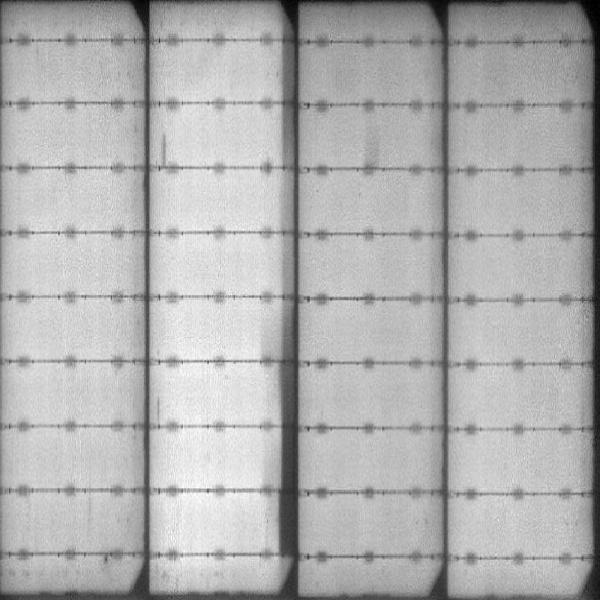black_border: (272, 289, 296, 558), (276, 25, 299, 175)
scratch: (159, 133, 171, 167)
